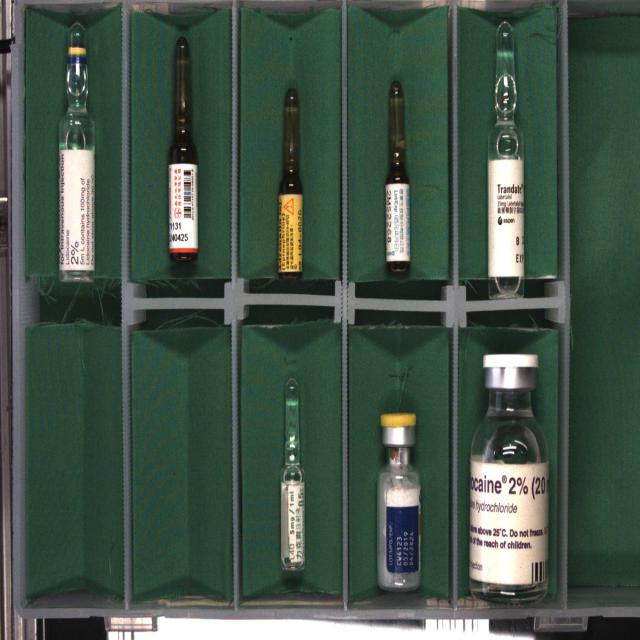Vials: (469, 354, 549, 602), (377, 413, 420, 591)
